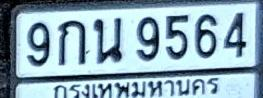4: (224, 12, 246, 57)
5: (166, 14, 188, 59)
6: (195, 13, 217, 58)
9: (136, 15, 159, 60), (27, 22, 50, 66)
A01: (58, 19, 87, 65)
A25: (93, 17, 122, 63)
BKK: (49, 74, 223, 98)
